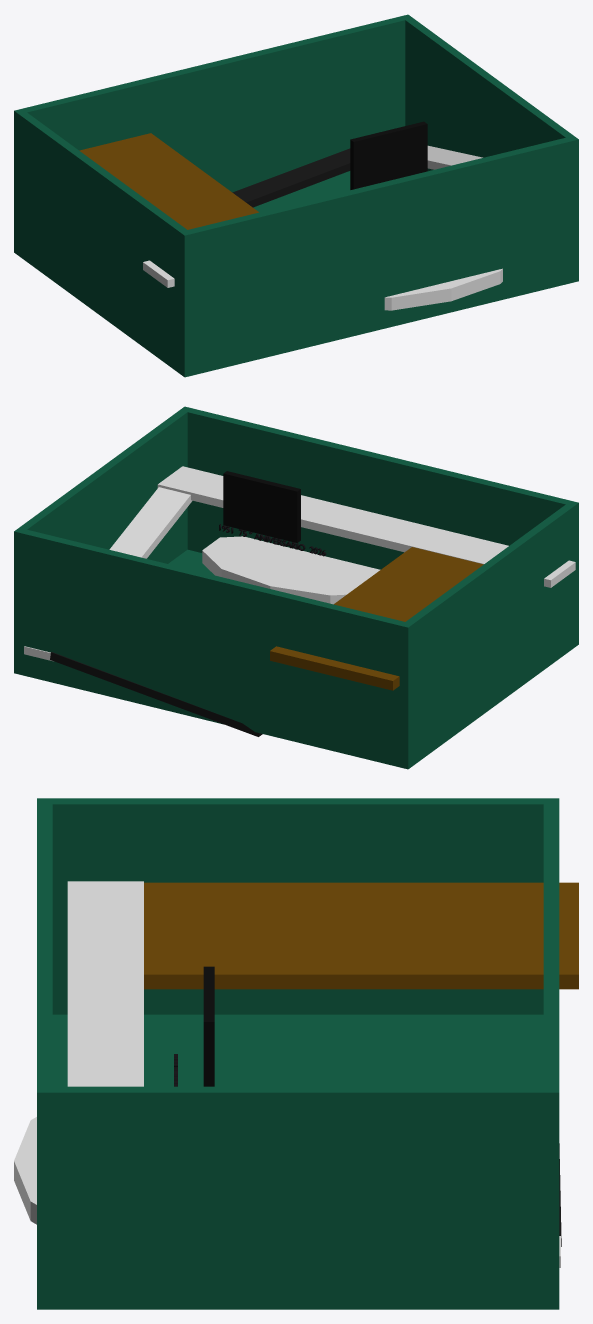
The model's file is primeraprueba.glb.
3 renders of one model, top to bottom at view 1: azimuth 30°, elevation 25°; view 2: azimuth 150°, elevation 25°; view 3: azimuth 270°, elevation 25°, orthographic. The views are drawn at different scales.
Visible parts, largest first — view 1: Cube.001, Cubo, Cubo.005, Cubo.001, Cilindro.001, Cubo.003; view 2: Cube.001, Cubo.004, Cubo, Cilindro.001, Cubo.005, Cubo.003, Cubo.001, Texto; view 3: Cube.001, Cubo, Cubo.004, Cilindro.001, Cubo.005.
Boxes of the visible parts, x1=… form: Cube.001: x1=14, y1=14, x2=578, y2=377; Cubo: x1=79, y1=133, x2=258, y2=229; Cubo.005: x1=350, y1=121, x2=427, y2=189; Cubo.001: x1=232, y1=148, x2=350, y2=207; Cilindro.001: x1=384, y1=268, x2=502, y2=310; Cubo.003: x1=427, y1=145, x2=482, y2=169; Cube.001: x1=14, y1=406, x2=578, y2=769; Cubo.004: x1=157, y1=466, x2=575, y2=587; Cubo: x1=270, y1=547, x2=483, y2=690; Cilindro.001: x1=202, y1=536, x2=380, y2=604; Cubo.005: x1=223, y1=471, x2=300, y2=542; Cubo.003: x1=109, y1=487, x2=192, y2=558; Cubo.001: x1=50, y1=652, x2=262, y2=736; Texto: x1=219, y1=524, x2=326, y2=556; Cube.001: x1=37, y1=798, x2=559, y2=1309; Cubo: x1=144, y1=882, x2=578, y2=989; Cubo.004: x1=67, y1=881, x2=143, y2=1086; Cilindro.001: x1=14, y1=1117, x2=36, y2=1224; Cubo.005: x1=203, y1=966, x2=214, y2=1086.
Size of the model in its own units: 32.56 by 11.38 by 25.96.
